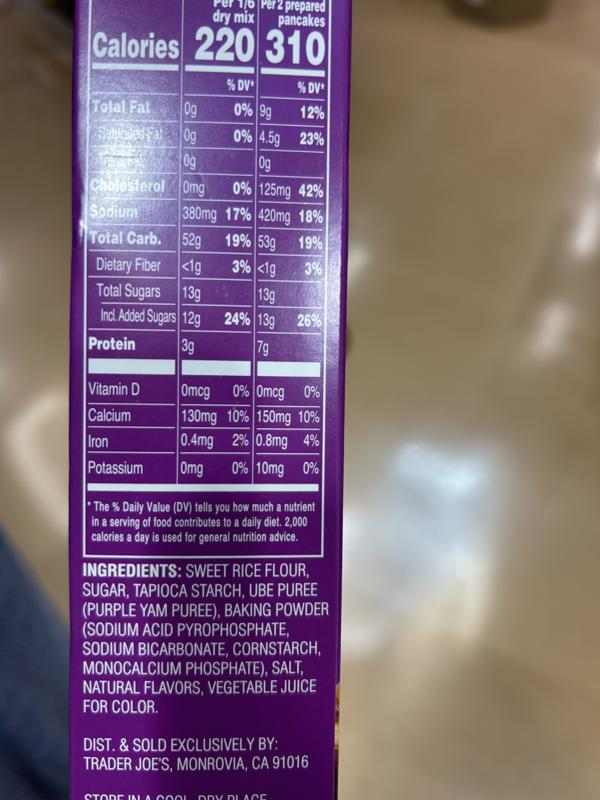ingredients: (80, 560, 330, 715)
